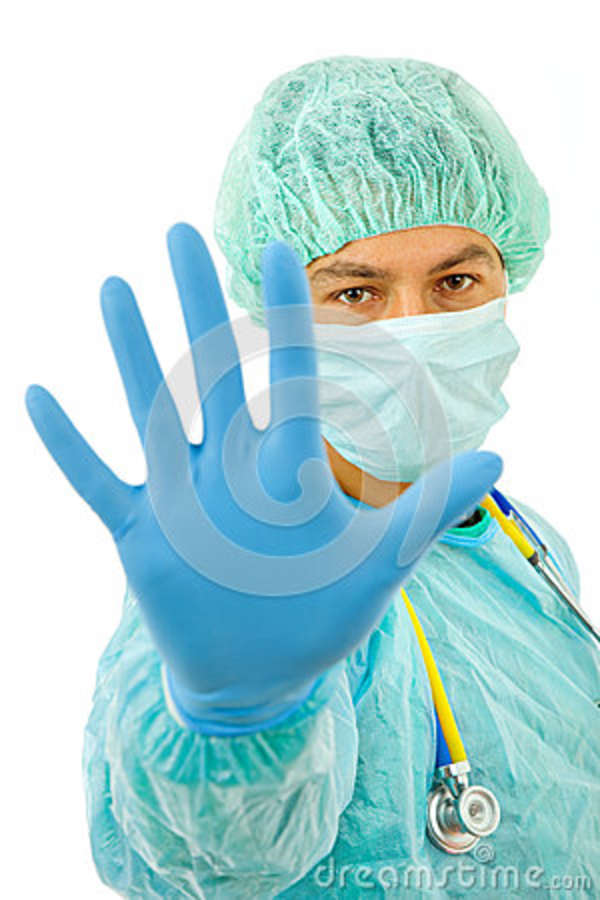mask: (271, 300, 548, 484)
